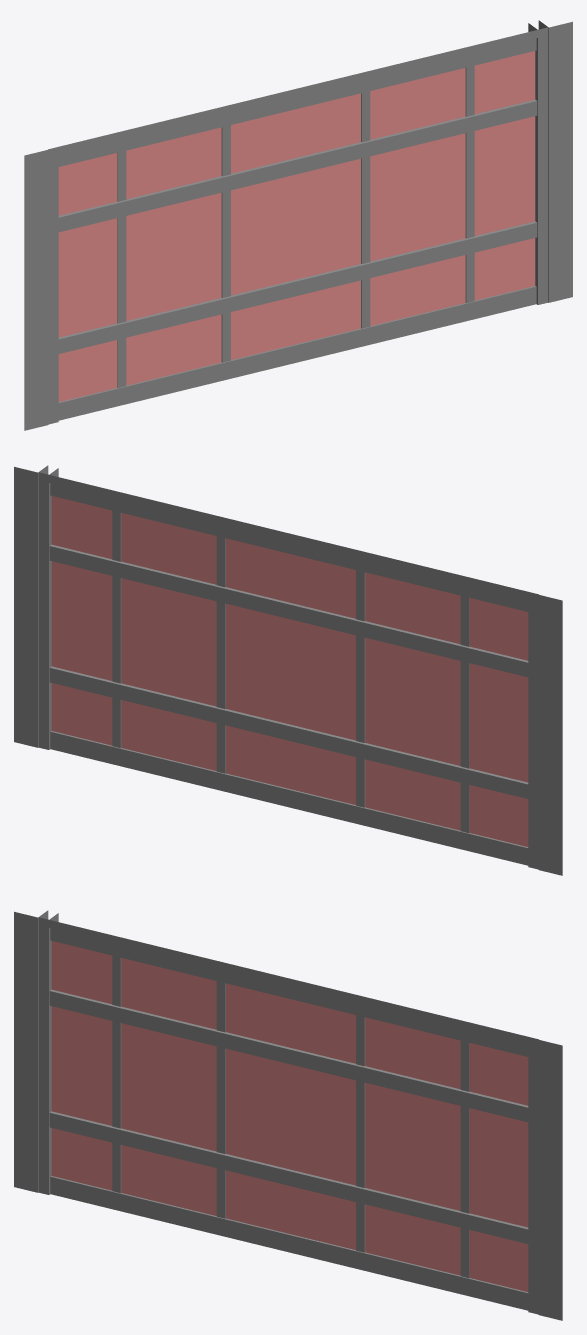
File: SM_ENV_KNVLLG03_YaguraFenceB_01.gltf
3 views of the same model, one above another, from view 1: azimuth 30°, elevation 25°; view 2: azimuth 150°, elevation 25°; view 3: azimuth 330°, elevation 25° (orthographic).
Visible parts, largest first — view 1: SM_ENV_KNVLLG03_YaguraFenceB_01; view 2: SM_ENV_KNVLLG03_YaguraFenceB_01; view 3: SM_ENV_KNVLLG03_YaguraFenceB_01.
Part boxes in pixels (bbox=[...]): SM_ENV_KNVLLG03_YaguraFenceB_01: bbox=[24, 20, 572, 430]; SM_ENV_KNVLLG03_YaguraFenceB_01: bbox=[14, 465, 562, 875]; SM_ENV_KNVLLG03_YaguraFenceB_01: bbox=[14, 910, 562, 1320].
Size of the model in its own units: 10.42 by 5 by 0.3426.
